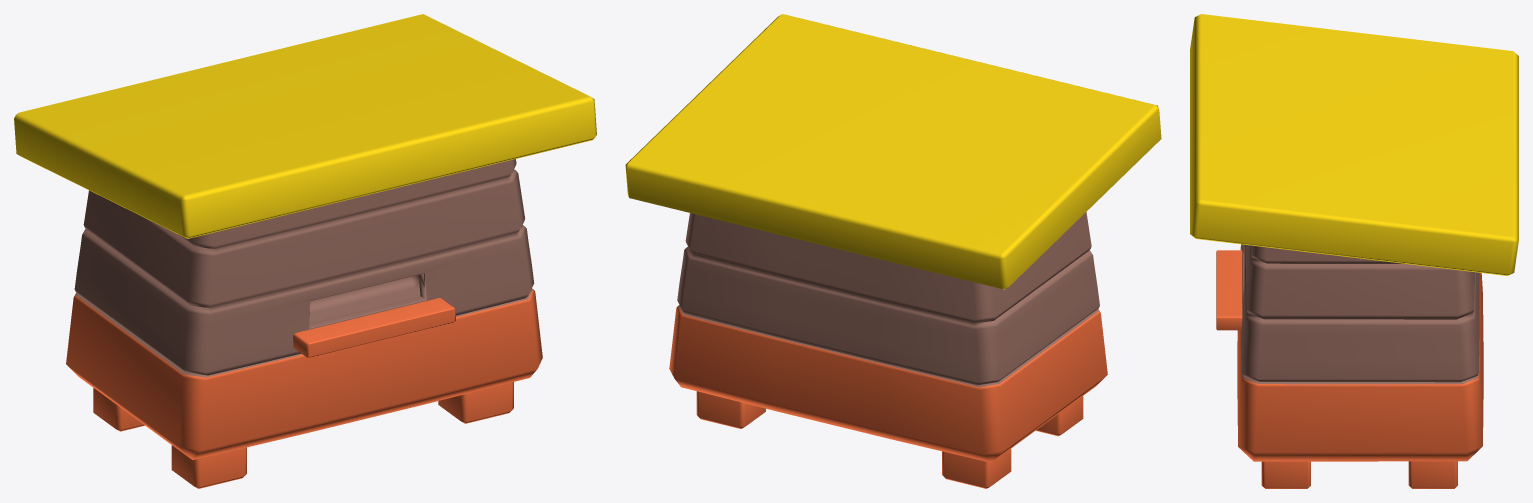
File: Farm_10_Bee_Hive_1.glb
3 views of the same model, side by side, from view 1: azimuth 30°, elevation 25°; view 2: azimuth 150°, elevation 25°; view 3: azimuth 270°, elevation 25° (orthographic). The views are drawn at different scales.
Visible parts, largest first — view 1: Farm_10_Bee_Hive_1; view 2: Farm_10_Bee_Hive_1; view 3: Farm_10_Bee_Hive_1.
Boxes of the visible parts, box(x1,y1,x2,y2) form: Farm_10_Bee_Hive_1: box(14, 14, 596, 488); Farm_10_Bee_Hive_1: box(625, 14, 1161, 488); Farm_10_Bee_Hive_1: box(1190, 14, 1518, 488).
Size of the model in its own units: 1.45 by 1.11 by 1.06.
1 material, 1 textured.
